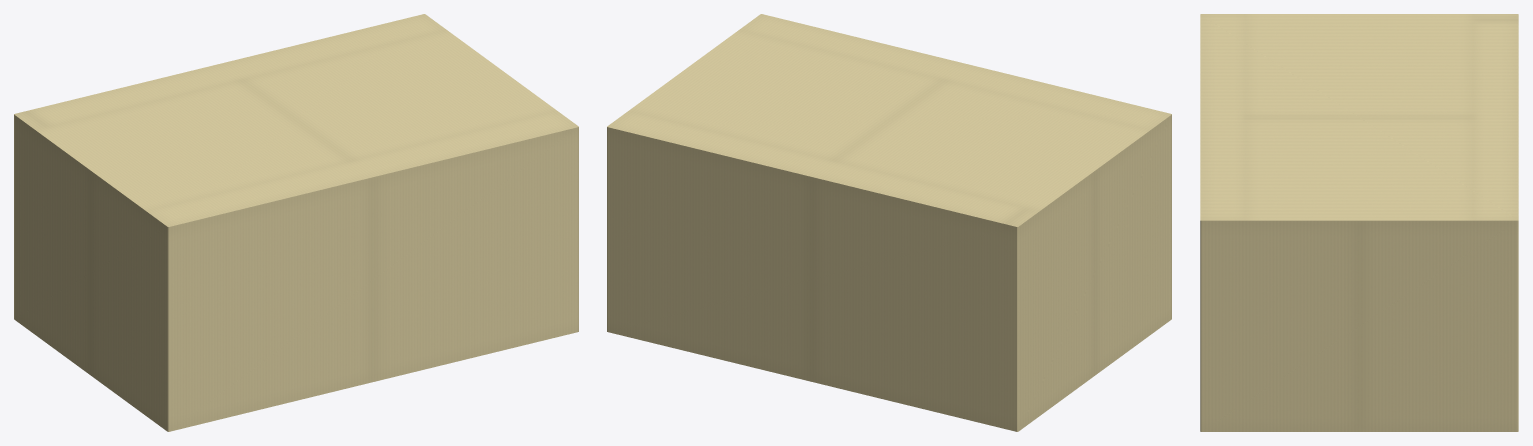
Rendered from 5-standing-binder-band-2-2.fbx.
3 renders of one model, left to right at view 1: azimuth 30°, elevation 25°; view 2: azimuth 150°, elevation 25°; view 3: azimuth 270°, elevation 25°, orthographic. The views are drawn at different scales.
Parts seen in each view (by area): view 1: standing-binder-band-2-2; view 2: standing-binder-band-2-2; view 3: standing-binder-band-2-2.
Part boxes in pixels (x1,y1,x2,y2): standing-binder-band-2-2: (14, 14, 578, 431); standing-binder-band-2-2: (607, 14, 1171, 431); standing-binder-band-2-2: (1200, 14, 1518, 431).
Bounding box in the file's own units: 12600 × 6000 × 8200.
Materials: 1 (1 with a texture image).
